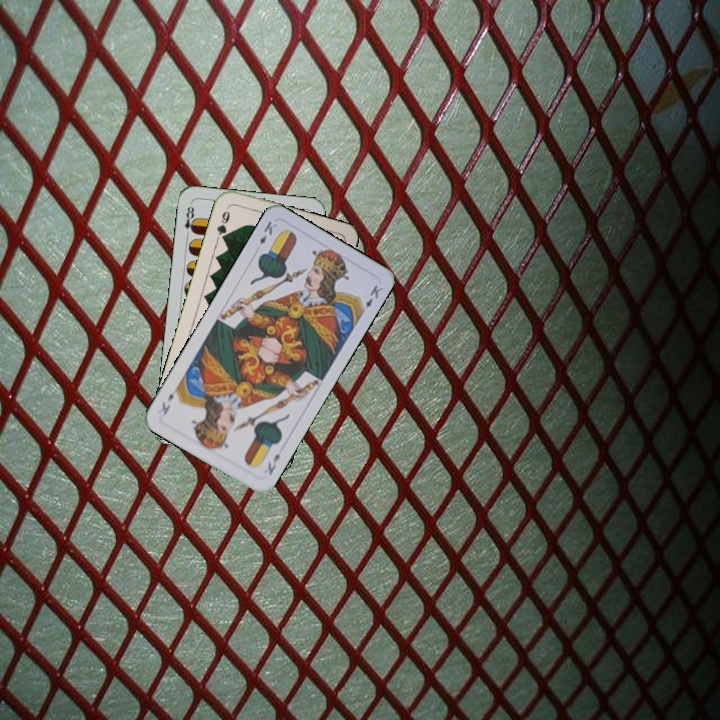E8: (180, 202, 199, 240)
EK: (255, 217, 280, 247), (263, 450, 283, 478)
G9: (213, 207, 232, 244)
